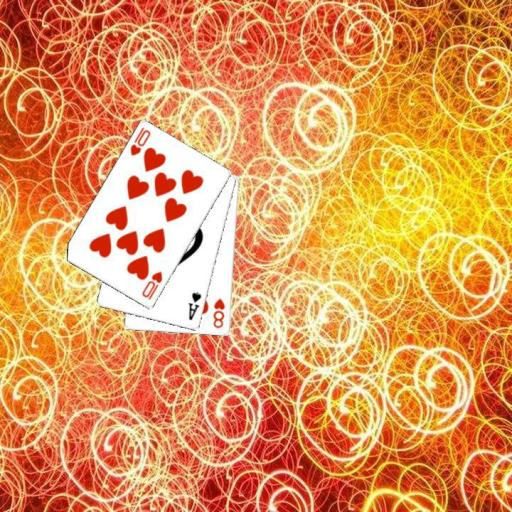10H: (139, 268, 164, 302), (127, 124, 152, 158)
8H: (211, 295, 226, 330)
AS: (186, 289, 203, 322)
